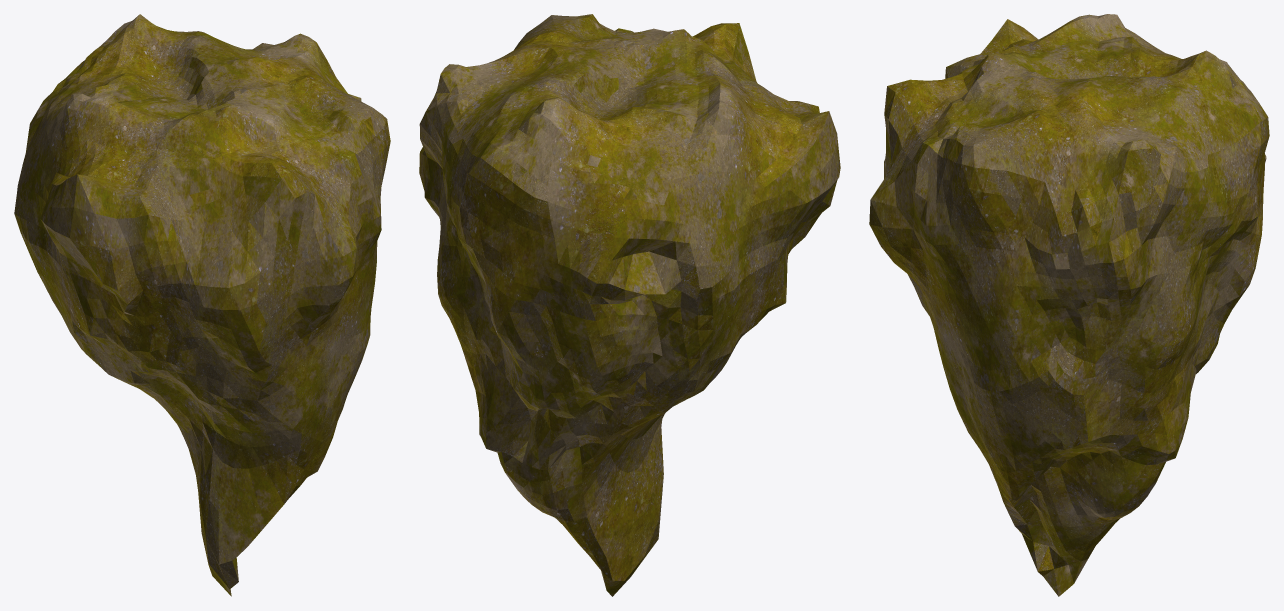
The model's file is floating_rock_1.glb.
3 views of the same model, side by side, from view 1: azimuth 30°, elevation 25°; view 2: azimuth 150°, elevation 25°; view 3: azimuth 270°, elevation 25° (orthographic). The views are drawn at different scales.
Parts seen in each view (by area): view 1: Floating rock 1.001; view 2: Floating rock 1.001; view 3: Floating rock 1.001.
Boxes of the visible parts, x1,y1,x2,y2 form: Floating rock 1.001: [14, 14, 390, 596]; Floating rock 1.001: [419, 14, 840, 596]; Floating rock 1.001: [869, 14, 1269, 596].
Size of the model in its own units: 5.46 by 8.04 by 5.45.
1 material, 1 textured.
